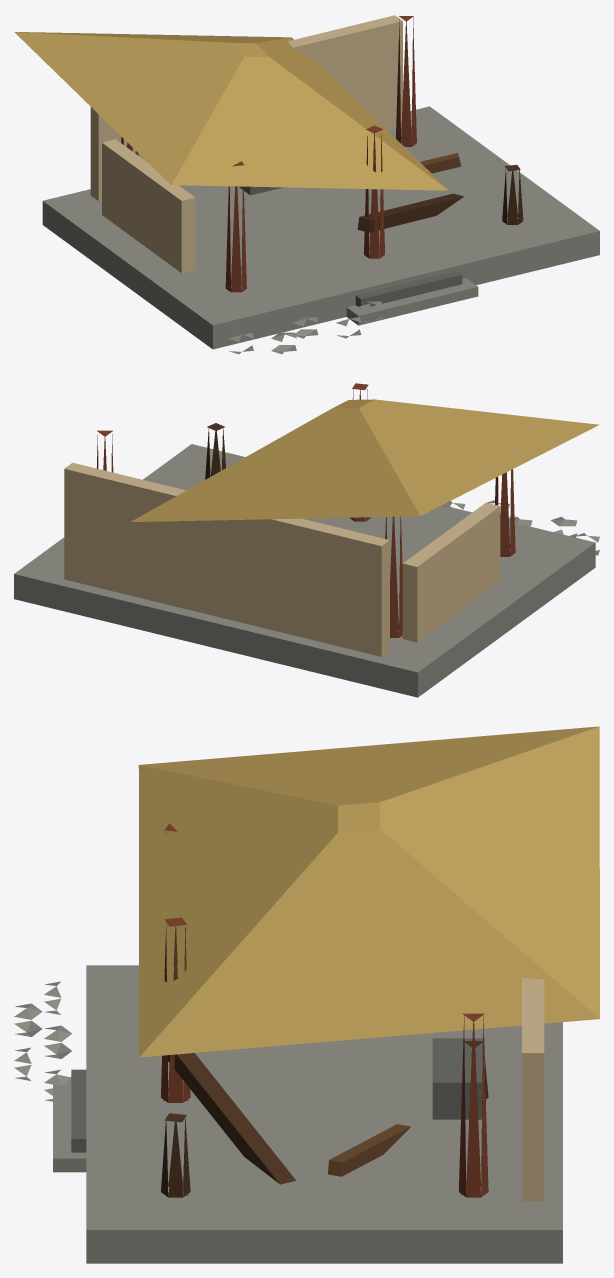
The model's file is prop_ruined_shrine_lod1.glb.
3 renders of one model, top to bottom at view 1: azimuth 30°, elevation 25°; view 2: azimuth 150°, elevation 25°; view 3: azimuth 270°, elevation 25°, orthographic. The views are drawn at different scales.
Visible parts, largest first — view 1: prop_ruined_shrine_lod1; view 2: prop_ruined_shrine_lod1; view 3: prop_ruined_shrine_lod1.
Part boxes in pixels (<box>): prop_ruined_shrine_lod1: <box>14,15,599,354</box>; prop_ruined_shrine_lod1: <box>14,383,599,697</box>; prop_ruined_shrine_lod1: <box>14,726,599,1263</box>.
Size of the model in its own units: 8.9 by 4.15 by 7.87.
